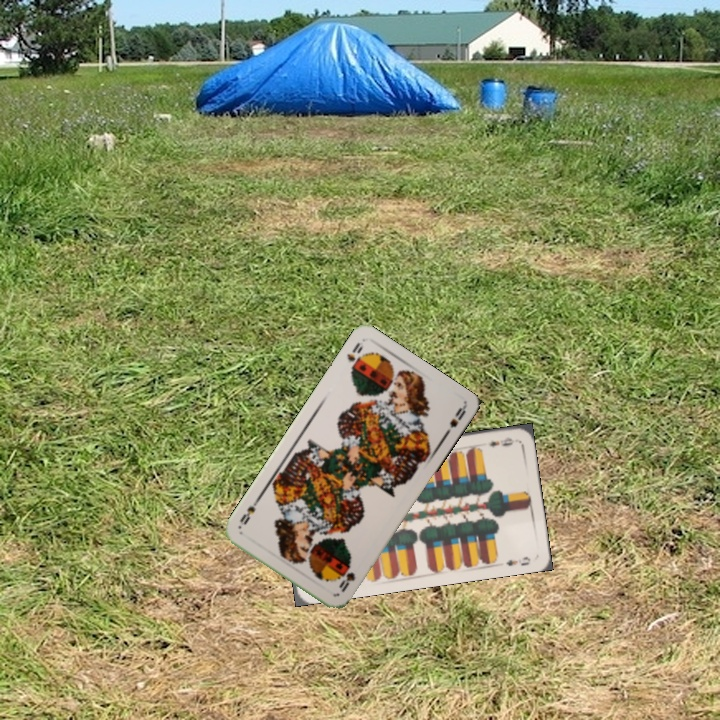E9: (486, 433, 516, 450)
SO: (335, 561, 358, 595), (343, 338, 366, 364)
